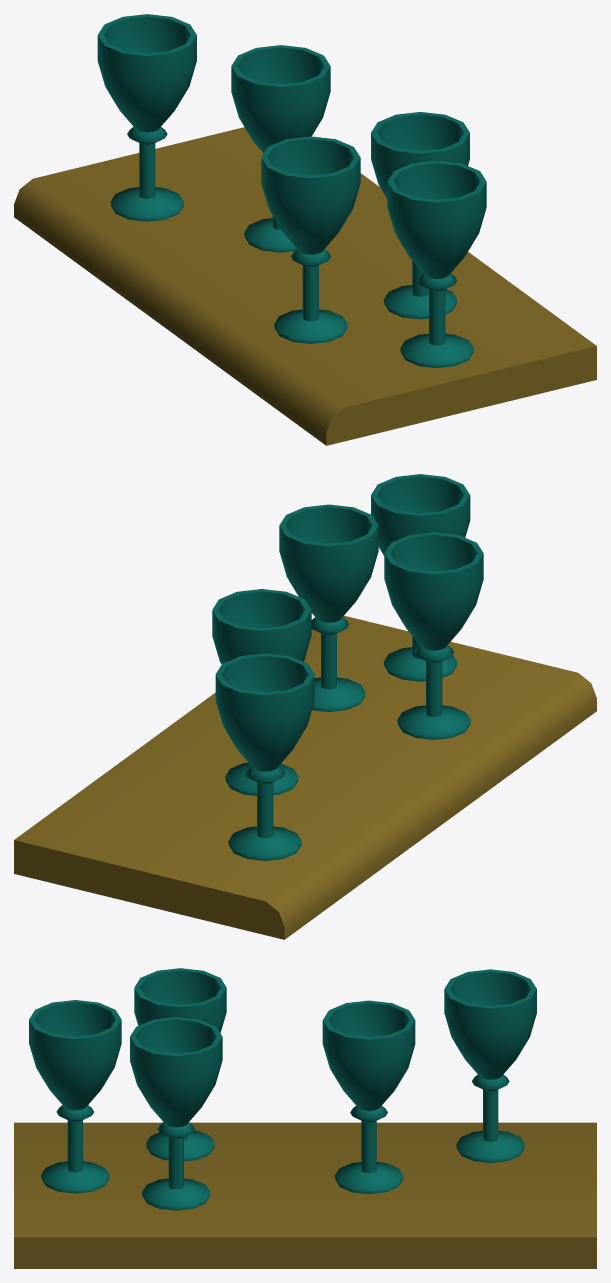
The model's file is DI_102_glasses_on_shelf.glb.
The picture shows the model from 3 angles, top to bottom: view 1: azimuth 30°, elevation 25°; view 2: azimuth 150°, elevation 25°; view 3: azimuth 270°, elevation 25°; orthographic projection. The views are drawn at different scales.
Parts seen in each view (by area): view 1: Shelf, Glass.003, Glass.004, Glass.006, Glass.005, Glass.002; view 2: Shelf, Glass.006, Glass.004, Glass.002, Glass.005, Glass.003; view 3: Shelf, Glass.005, Glass.002, Glass.003, Glass.006, Glass.004.
Part boxes in pixels (<box>): Shelf: <box>14,127,596,445</box>; Glass.003: <box>387,160,486,367</box>; Glass.004: <box>261,136,360,343</box>; Glass.006: <box>97,14,196,221</box>; Glass.005: <box>231,45,330,252</box>; Glass.002: <box>371,112,469,319</box>; Shelf: <box>14,615,596,939</box>; Glass.006: <box>215,653,314,860</box>; Glass.004: <box>384,532,483,739</box>; Glass.002: <box>279,504,378,711</box>; Glass.005: <box>212,589,311,795</box>; Glass.003: <box>371,474,470,681</box>; Shelf: <box>14,1122,596,1268</box>; Glass.005: <box>322,1000,415,1194</box>; Glass.002: <box>130,1017,222,1210</box>; Glass.003: <box>29,1000,121,1193</box>; Glass.006: <box>444,969,536,1162</box>; Glass.004: <box>134,968,226,1161</box>.
Size of the model in its own units: 0.75 by 0.5436 by 1.5.
